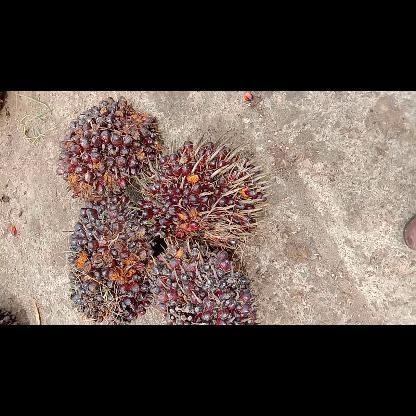Kurang masak: (138, 136, 270, 256), (66, 192, 162, 324), (54, 96, 164, 207), (149, 238, 261, 324)
